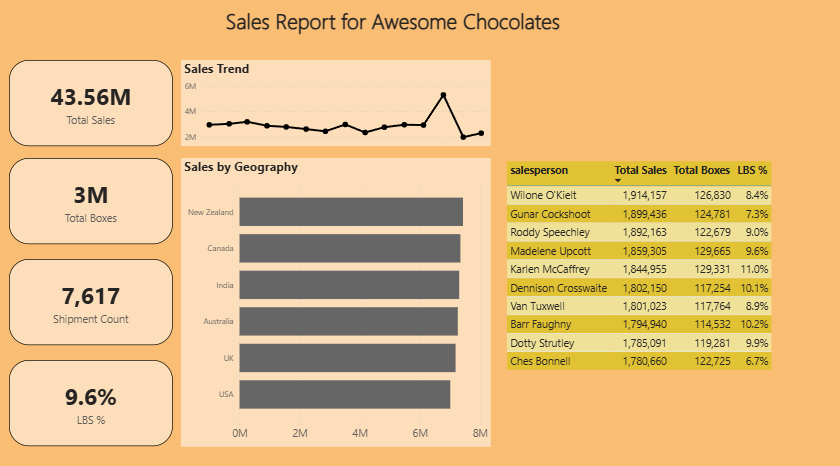

Layout of this report page (visuals, bound fields, positions):
{"tool":"powerbi","page":{"name":"Sales","canvas":[1280,720],"ordinal":0},"visuals":[{"type":"card","fields":{"Values":["sales.Total Sales"]},"box":[15.7,98.6,248.6,131.4],"z":0},{"type":"card","fields":{"Values":["sales.Total Boxes"]},"box":[15.7,247.1,248.6,131.4],"z":1000},{"type":"card","fields":{"Values":["sales.Shipment Count"]},"box":[15.7,401.4,248.6,131.4],"z":2000},{"type":"card","fields":{"Values":["sales.LBS %"]},"box":[15.7,554.3,248.6,131.4],"z":3000},{"type":"barChart","title":"Sales by Geography","fields":{"Category":["geo.geo"],"Y":["sales.Total Sales"]},"box":[277.1,247.1,471.4,438.6],"z":4000},{"type":"lineChart","title":"Sales Trend","fields":{"Y":["sales.Total Sales"],"Category":["sales.saledate.Variation.Date Hierarchy.Year","sales.saledate.Variation.Date Hierarchy.Quarter","sales.saledate.Variation.Date Hierarchy.Month"]},"box":[277.1,98.6,471.4,131.4],"z":5000},{"type":"tableEx","fields":{"Values":["people.salesperson","sales.Total Sales","sales.Total Boxes","sales.LBS %"]},"box":[765.7,247.1,417.1,340],"z":6000},{"type":"textbox","box":[15.7,11.4,1167.1,64.3],"z":7000}]}

Visuals, with their boxes in screenshot pixels (x1, y1, x2, y2), scaled from the page's 1280x720 canvas onto the 840x466 screenshot:
card - sales.Total Sales: <bbox>10, 64, 173, 149</bbox>
card - sales.Total Boxes: <bbox>10, 160, 173, 245</bbox>
card - sales.Shipment Count: <bbox>10, 260, 173, 345</bbox>
card - sales.LBS %: <bbox>10, 359, 173, 444</bbox>
"Sales by Geography" barChart: <bbox>182, 160, 491, 444</bbox>
"Sales Trend" lineChart: <bbox>182, 64, 491, 149</bbox>
tableEx - people.salesperson x sales.Total Sales: <bbox>502, 160, 776, 380</bbox>
textbox: <bbox>10, 7, 776, 49</bbox>
